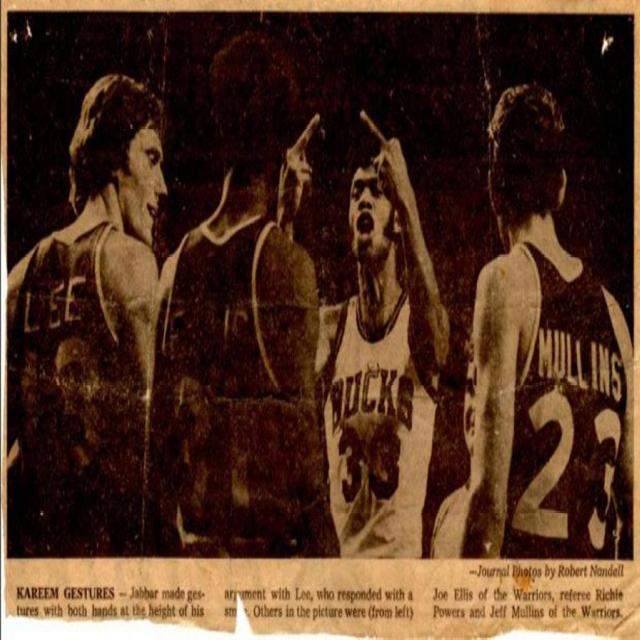nomask: (116, 118, 169, 242), (349, 162, 389, 260)
